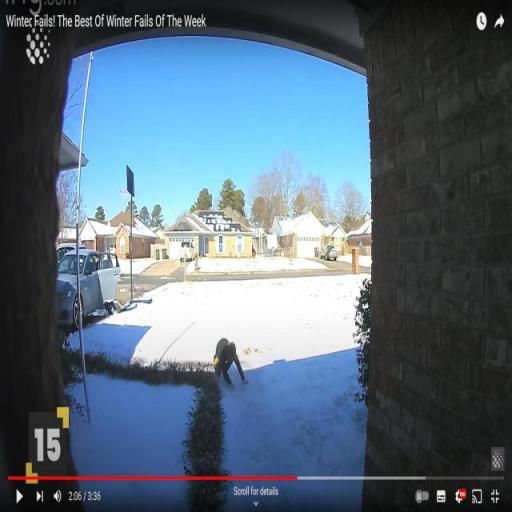Fall: (212, 336, 251, 391)
